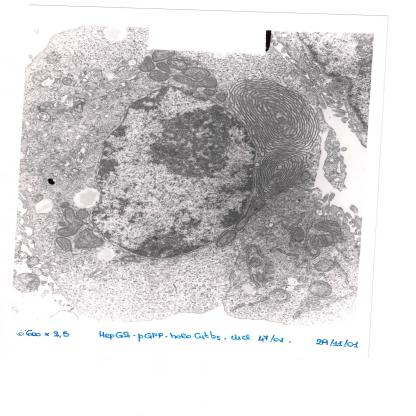mitochondria: (234, 196, 266, 231), (58, 208, 84, 237), (73, 228, 105, 249), (313, 219, 345, 240), (173, 75, 217, 88), (215, 229, 237, 247), (183, 66, 211, 80), (308, 280, 332, 296), (309, 235, 335, 248), (30, 69, 51, 84), (150, 50, 176, 62), (138, 56, 156, 72), (314, 259, 336, 272), (55, 237, 73, 251), (167, 58, 188, 70), (149, 70, 170, 81), (290, 227, 305, 242), (156, 62, 172, 73), (76, 210, 90, 219), (216, 92, 228, 102), (306, 300, 320, 308), (202, 88, 216, 96), (61, 77, 73, 85), (188, 60, 200, 66)
